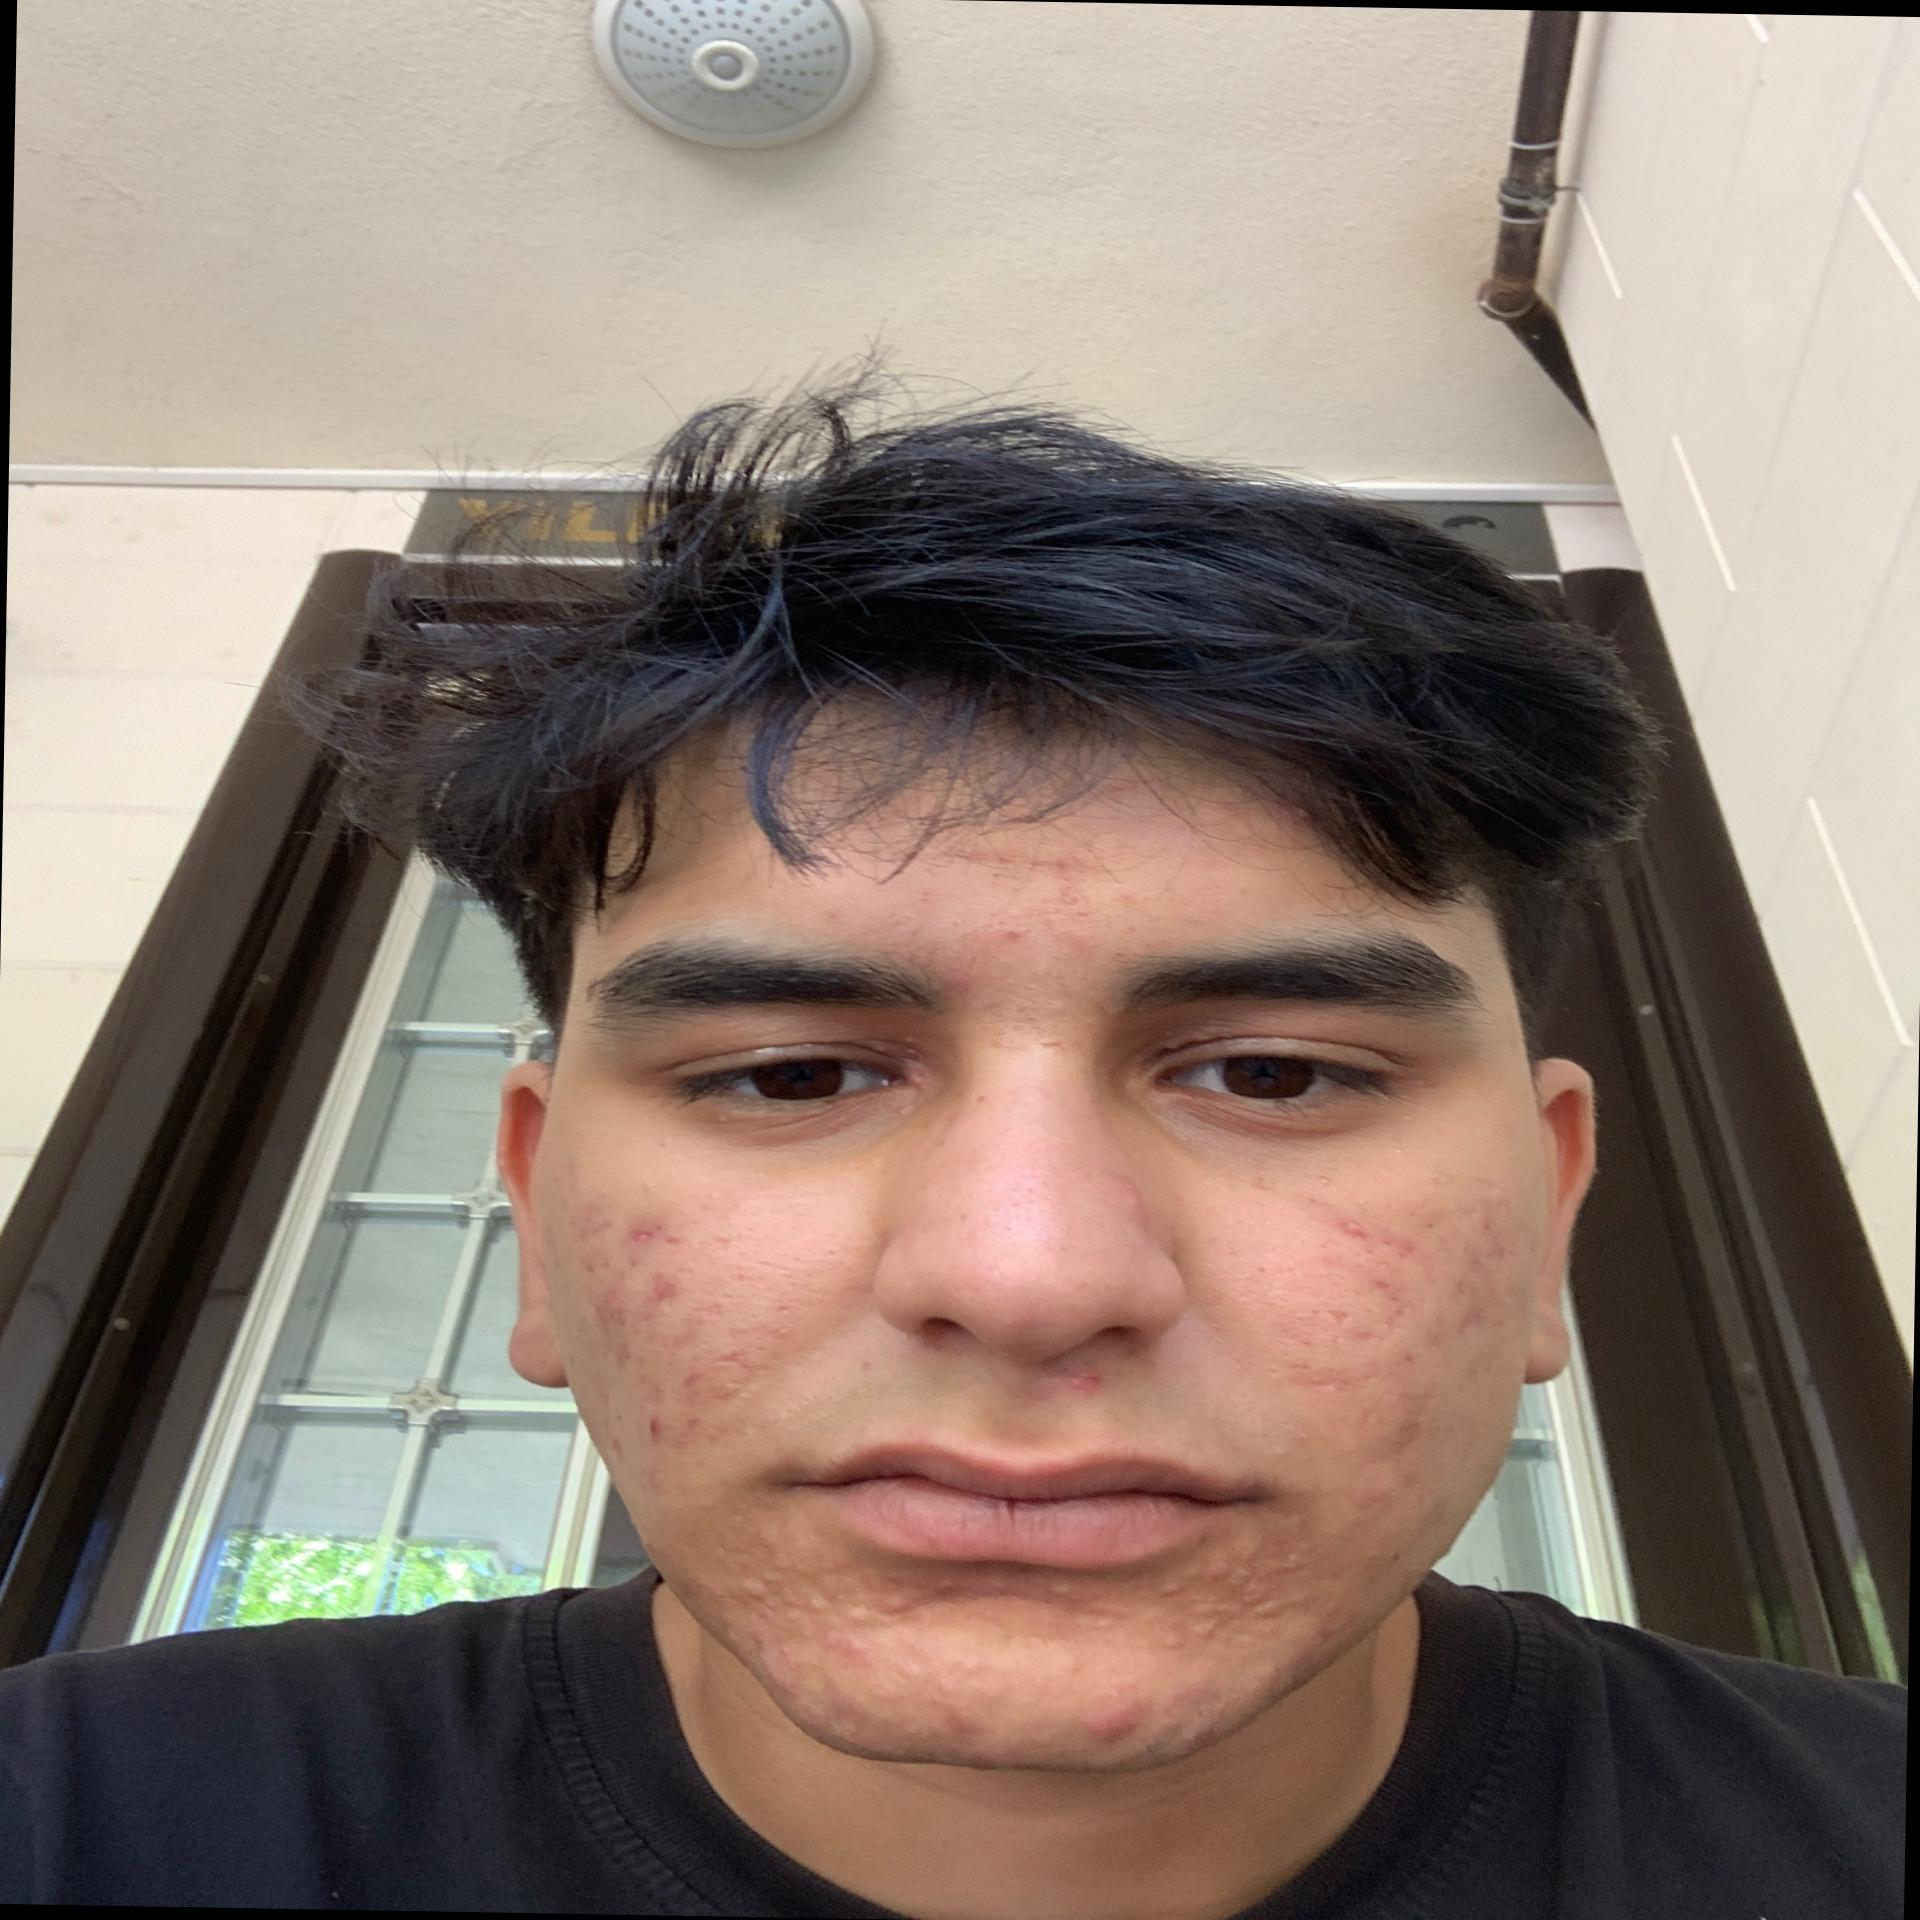Acne: (1141, 1530, 1298, 1651), (744, 1537, 833, 1619), (839, 1575, 956, 1626), (1366, 1387, 1435, 1463), (589, 1285, 647, 1371), (561, 1162, 621, 1243), (700, 1336, 758, 1410), (744, 1633, 809, 1697), (1338, 1472, 1412, 1526), (1301, 1203, 1398, 1241), (1319, 1303, 1393, 1352), (1069, 1596, 1143, 1646), (807, 1676, 877, 1725), (1080, 1700, 1159, 1742), (1101, 1166, 1153, 1225), (1466, 1206, 1517, 1268), (1276, 1364, 1370, 1398), (1440, 1278, 1489, 1340), (543, 1248, 651, 1276), (876, 886, 935, 935), (804, 1626, 877, 1665), (1319, 1238, 1422, 1264), (619, 1215, 693, 1252), (1364, 1271, 1414, 1324), (703, 1579, 738, 1639), (1266, 1426, 1313, 1468), (935, 965, 985, 1004), (1048, 921, 1099, 958), (1243, 1649, 1285, 1693), (1053, 872, 1094, 918), (642, 1266, 689, 1305), (934, 1698, 983, 1730), (1414, 1496, 1456, 1533), (1058, 1370, 1116, 1396), (814, 900, 858, 932), (1037, 1575, 1080, 1605), (1306, 1618, 1340, 1651), (633, 1410, 668, 1442), (946, 1646, 983, 1676), (891, 1658, 928, 1684), (999, 921, 1037, 946), (607, 1428, 628, 1458)
Blackhead: (686, 1218, 839, 1320), (1210, 1255, 1331, 1343), (985, 985, 1078, 1058), (999, 1159, 1065, 1240)
Wrinkles: (682, 1320, 832, 1451), (898, 849, 1125, 869)
